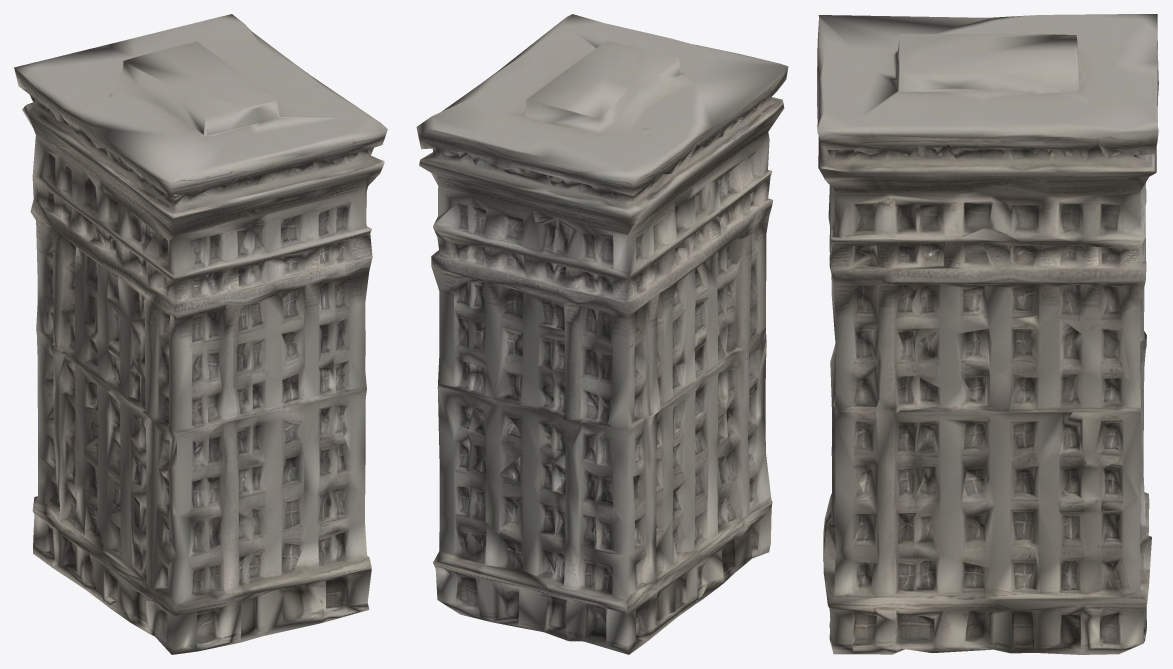
File: bld6_lo.glb
3 views of the same model, side by side, from view 1: azimuth 30°, elevation 25°; view 2: azimuth 150°, elevation 25°; view 3: azimuth 270°, elevation 25° (orthographic). The views are drawn at different scales.
Parts seen in each view (by area): view 1: tripo_node_6a543c6c-19c6-4799-a1c5-1132af0a3eb6; view 2: tripo_node_6a543c6c-19c6-4799-a1c5-1132af0a3eb6; view 3: tripo_node_6a543c6c-19c6-4799-a1c5-1132af0a3eb6.
Part boxes in pixels (x1,y1,x2,y2): tripo_node_6a543c6c-19c6-4799-a1c5-1132af0a3eb6: (14,14,387,654); tripo_node_6a543c6c-19c6-4799-a1c5-1132af0a3eb6: (416,14,788,654); tripo_node_6a543c6c-19c6-4799-a1c5-1132af0a3eb6: (817,14,1158,654).
Bounding box in the file's own units: 0.4551 × 0.9996 × 0.5638.
Materials: 1 (1 with a texture image).
